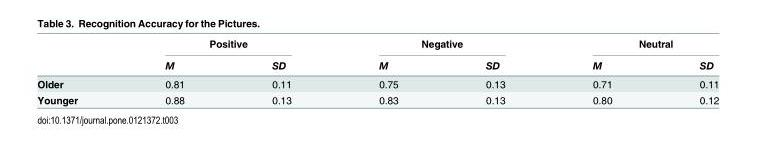table: (36, 37, 718, 105)
table column: (120, 37, 227, 105), (227, 37, 334, 105), (334, 37, 441, 105), (441, 37, 548, 105), (548, 37, 655, 105), (36, 37, 120, 105), (655, 37, 718, 105)
table column header: (36, 37, 718, 74)
table row: (36, 53, 718, 74), (36, 74, 718, 91), (36, 37, 718, 53), (36, 91, 718, 105)
table spanning cell: (120, 37, 334, 53), (334, 37, 548, 53), (548, 37, 718, 53)
